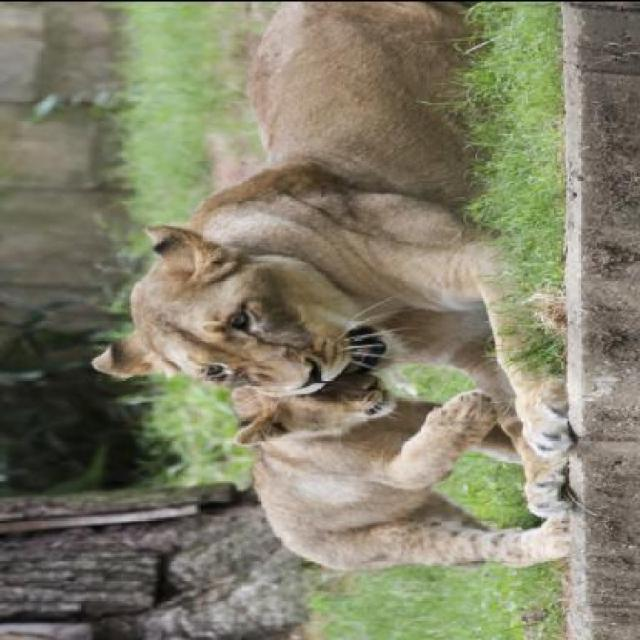Lion: (88, 1, 570, 398), (187, 380, 638, 608)
